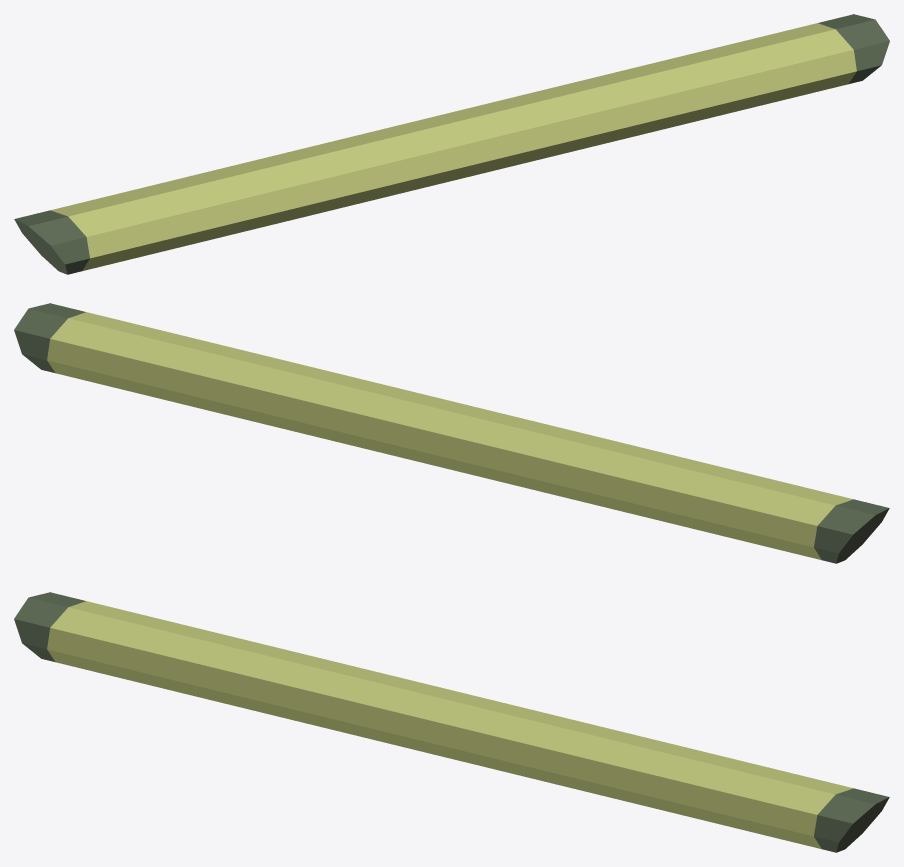
Rendered from lamp.fbx.
The picture shows the model from 3 angles, top to bottom: view 1: azimuth 30°, elevation 25°; view 2: azimuth 150°, elevation 25°; view 3: azimuth 330°, elevation 25°; orthographic projection.
Visible parts, largest first — view 1: Kostka; view 2: Kostka; view 3: Kostka.
Boxes of the visible parts, left/top/right/bottom form: Kostka: left=14, top=14, right=889, bottom=274; Kostka: left=14, top=303, right=889, bottom=563; Kostka: left=14, top=592, right=889, bottom=852.
Size of the model in its own units: 3097 by 183 by 273.
